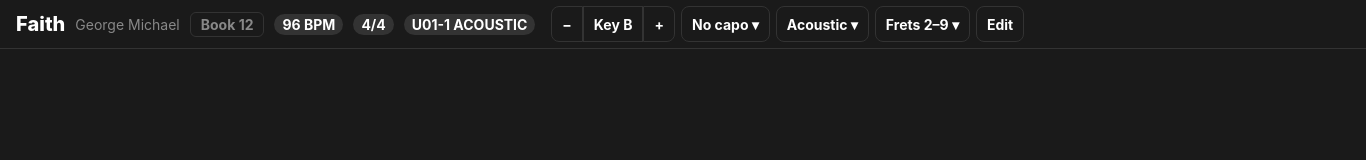
the setup row › follows the song's sound, and switches the guitar for this song only
What coordinates should you click on to do the following:
click the button with aria-label "Played on acoustic guitar"
I would click on:
 (822, 24)
Its box is x1=776 y1=6 x2=869 y2=42.
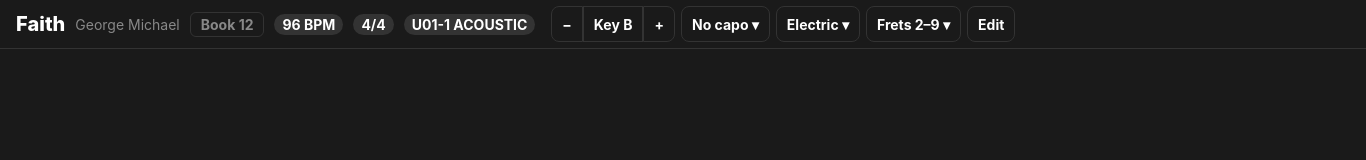
expect the button with aria-label "Played on electric guitar" shows "Electric": met, box x1=776 y1=6 x2=860 y2=42
